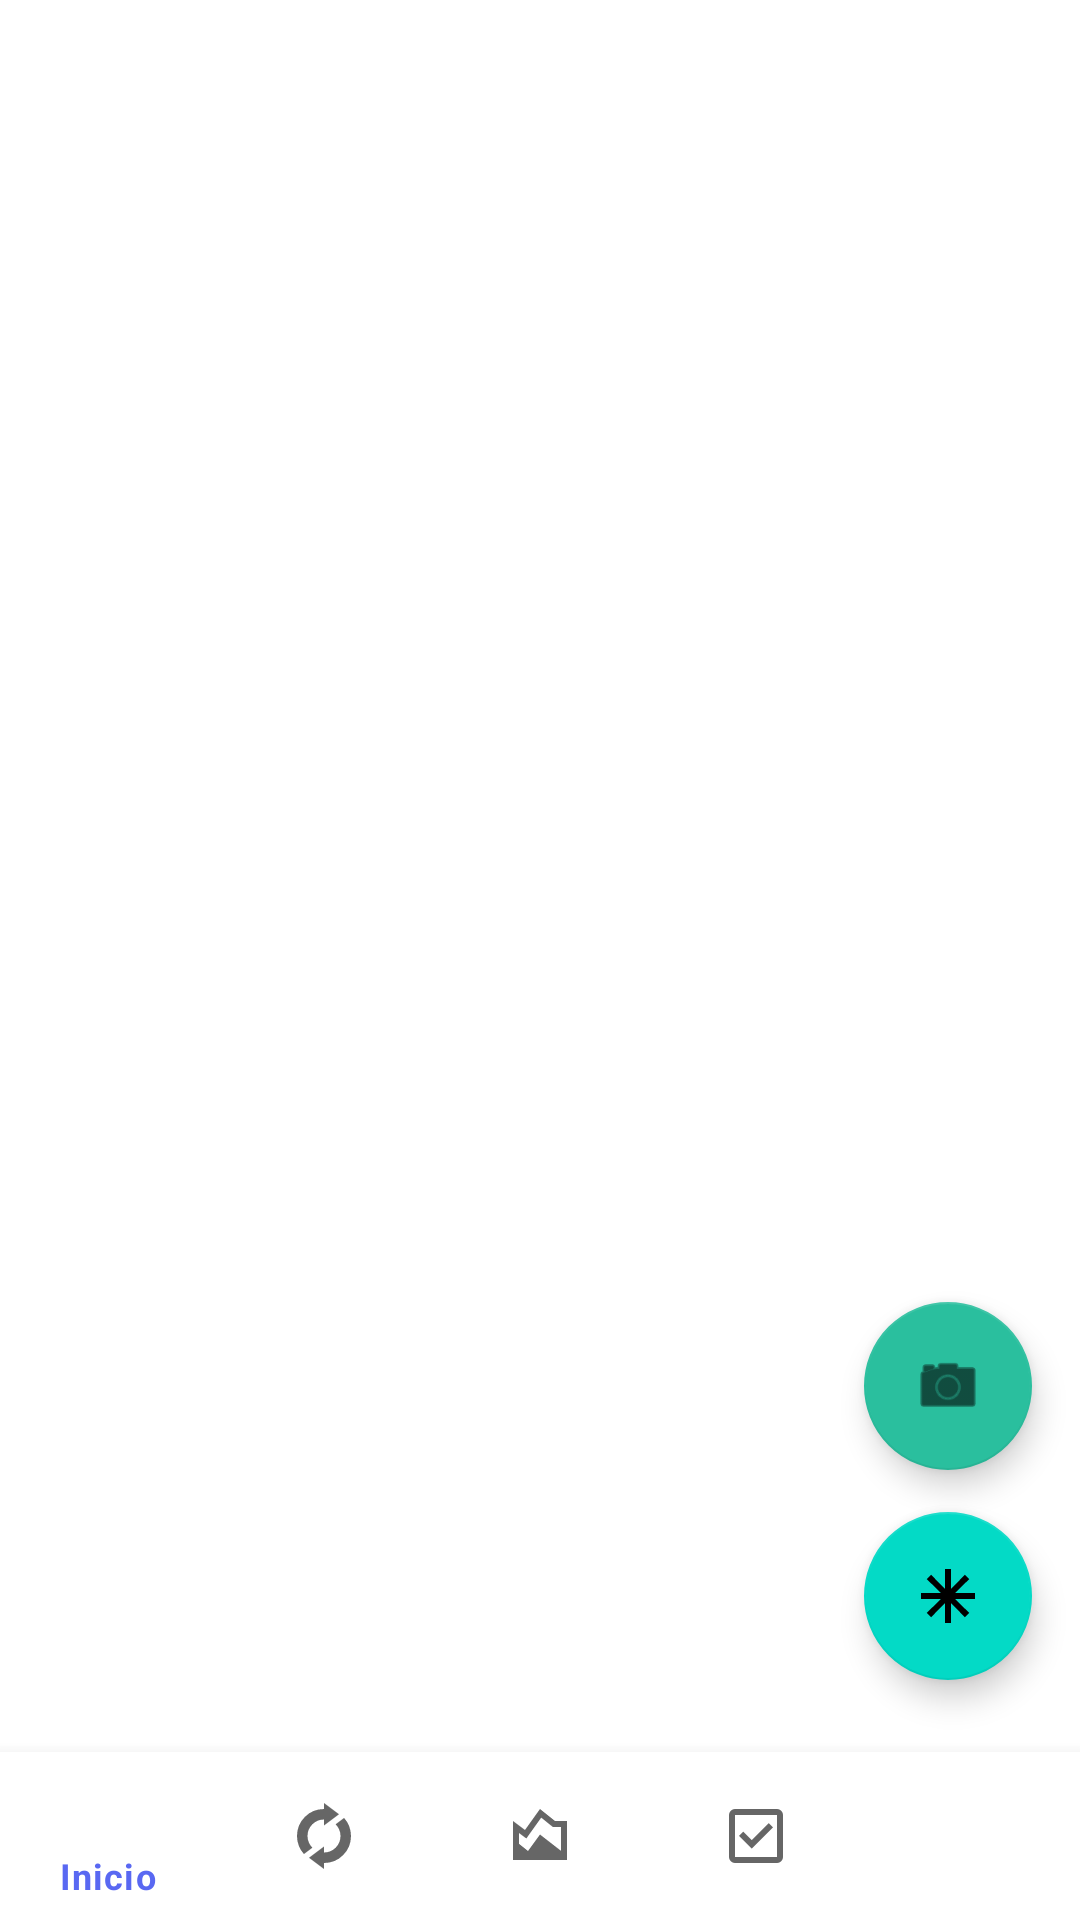

Icons on this 1080*1920 Android screen, each with its box as (x1, y1, x2, y2):
camera: (864, 1302, 1032, 1470)
